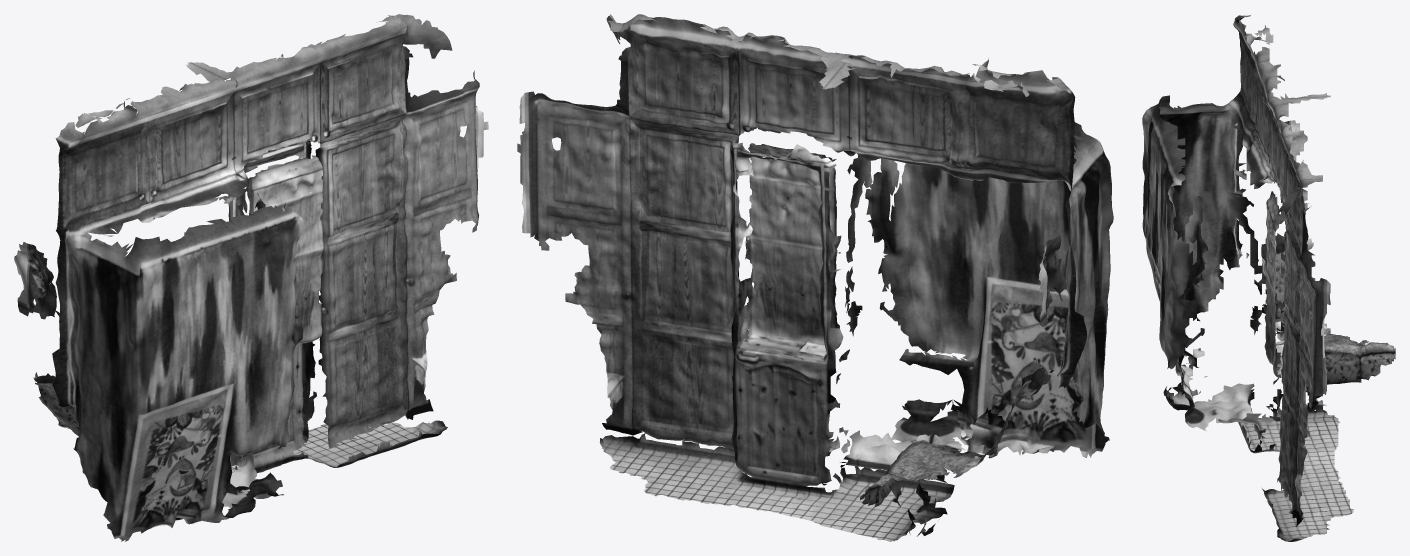
File: TexturedMesh.fbx
The picture shows the model from 3 angles, left to right: view 1: azimuth 30°, elevation 25°; view 2: azimuth 150°, elevation 25°; view 3: azimuth 270°, elevation 25°; orthographic projection. The views are drawn at different scales.
Visible parts, largest first — view 1: Node; view 2: Node; view 3: Node.
Boxes of the visible parts, bbox=[...] form: Node: bbox=[14, 14, 488, 541]; Node: bbox=[517, 14, 1113, 541]; Node: bbox=[1142, 15, 1395, 541].
Bounding box in the file's own units: 307 × 259 × 161.
